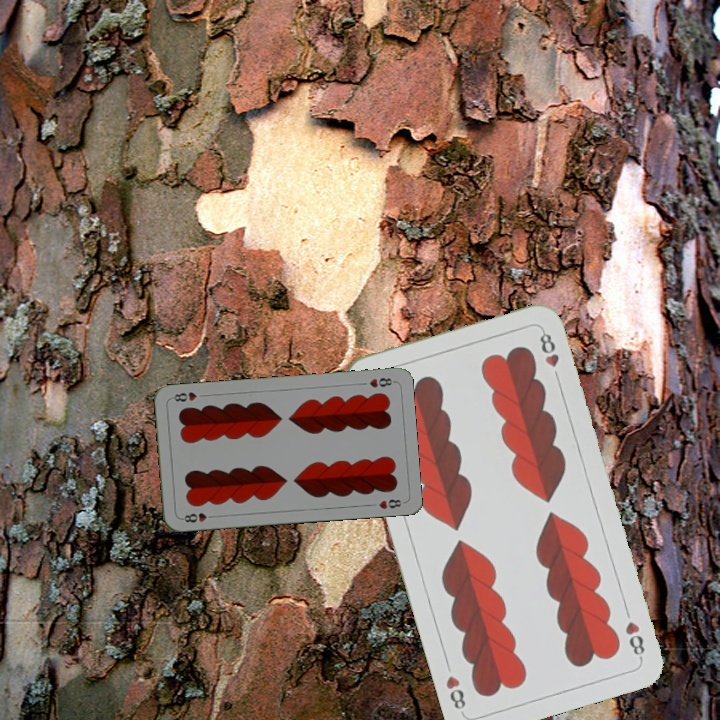H8: (621, 617, 648, 662), (177, 509, 218, 525), (365, 374, 397, 390)
